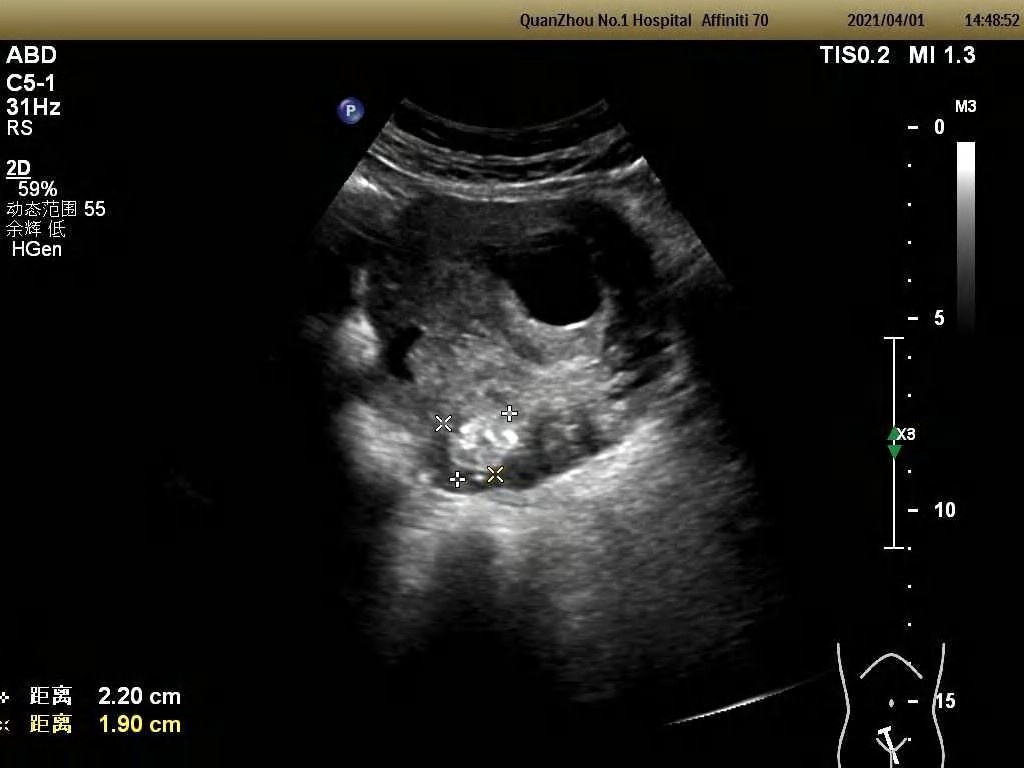肌瘤: (448, 417, 516, 477)
